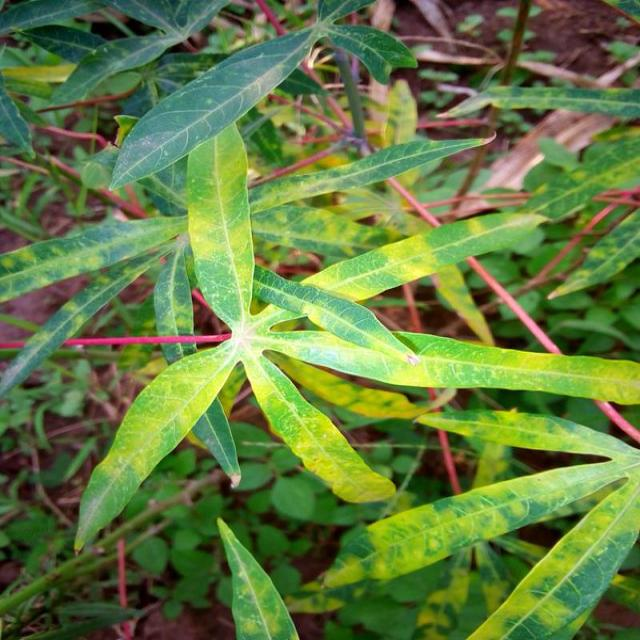cassava leaf: (2, 2, 640, 636), (74, 336, 242, 554)
